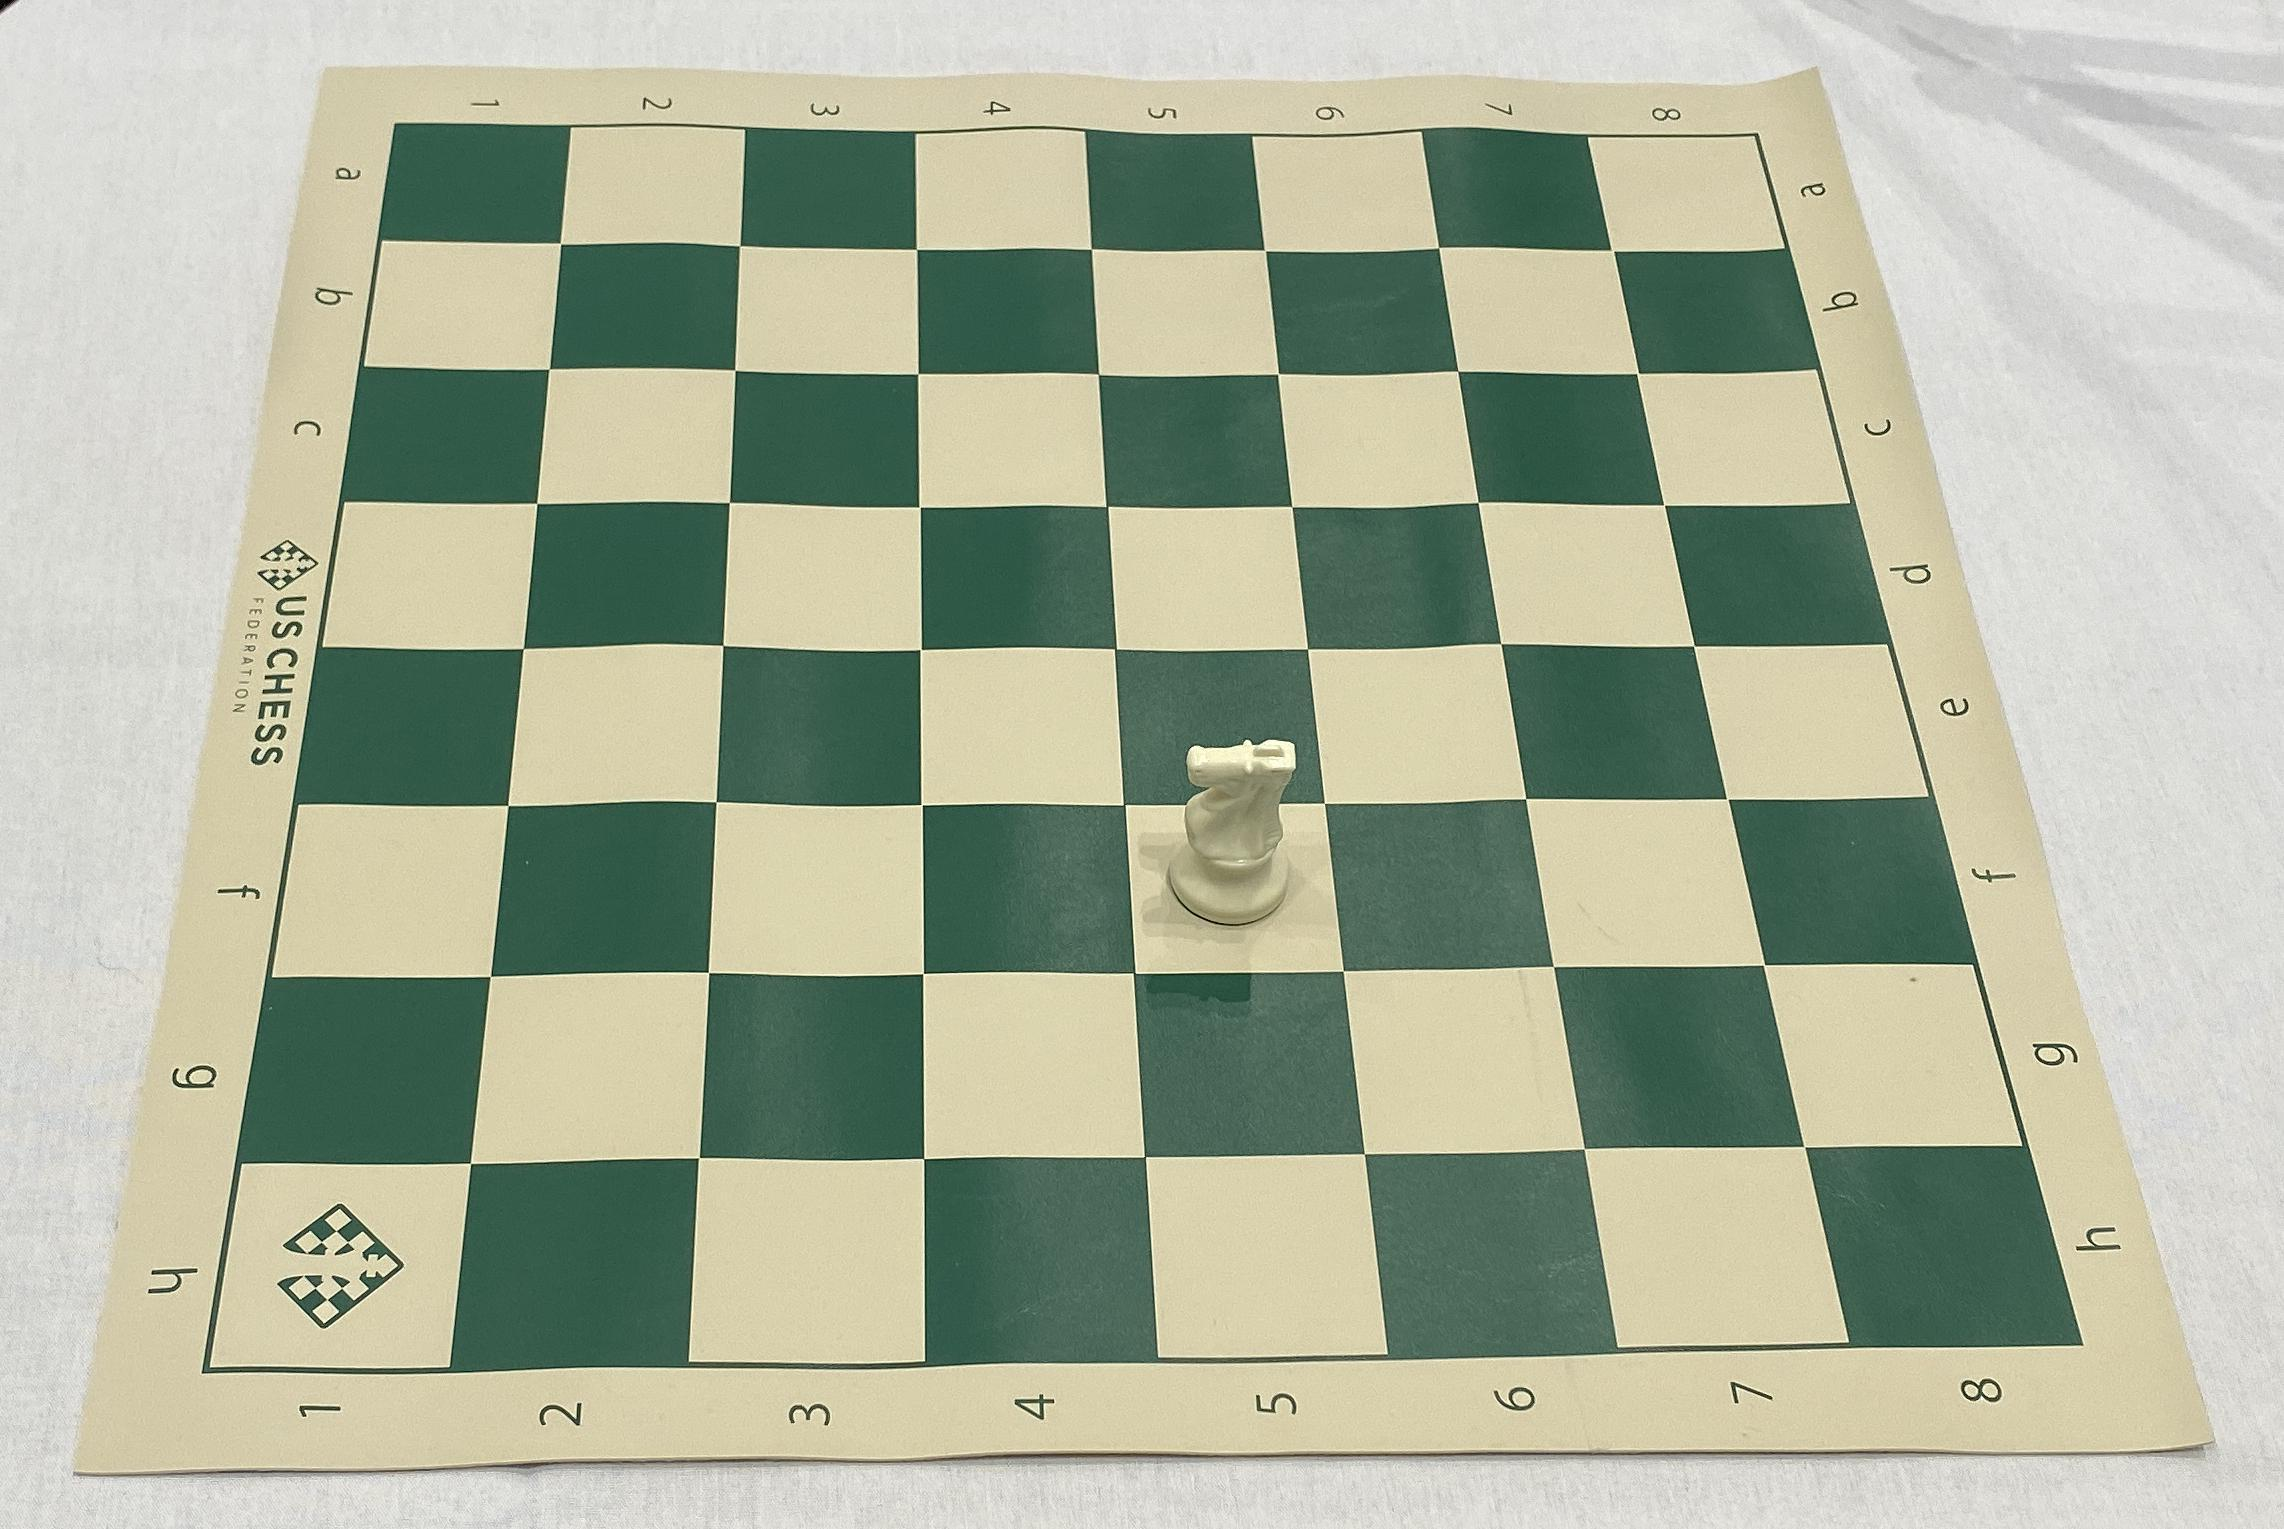white-knight: (1165, 739, 1300, 932)
